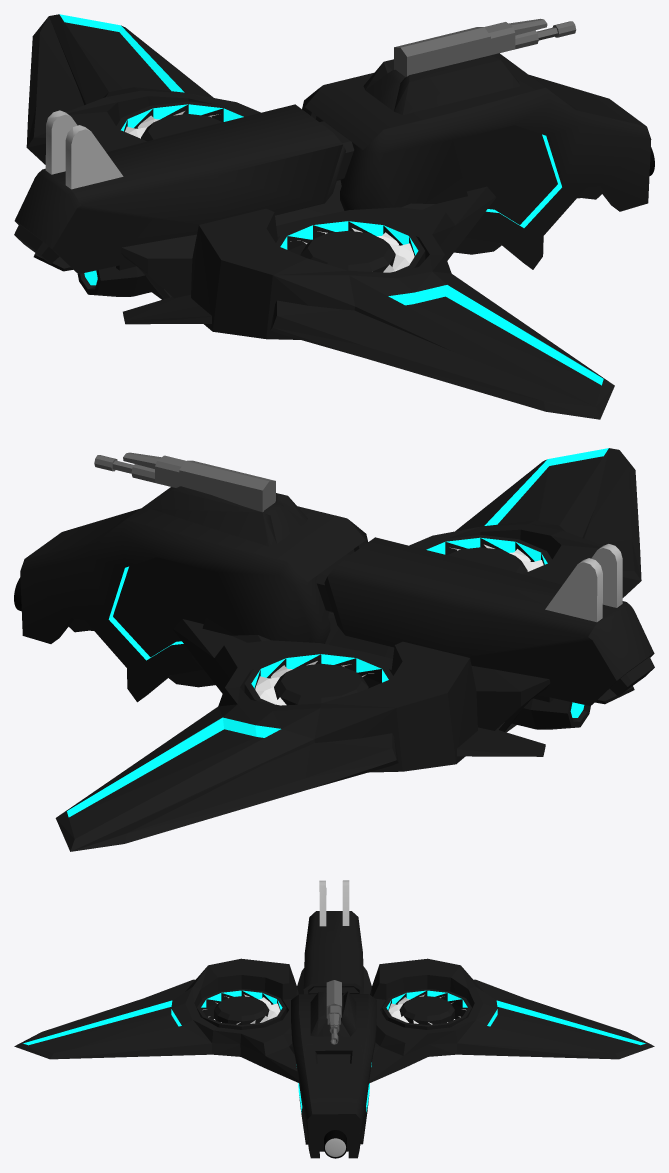
Rendered from AirDrone.gltf.
3 renders of one model, top to bottom at view 1: azimuth 30°, elevation 25°; view 2: azimuth 150°, elevation 25°; view 3: azimuth 270°, elevation 25°, orthographic. The views are drawn at different scales.
Parts seen in each view (by area): view 1: Mesh_0814.001, Drone, Drone.001, Mesh_0822.001, propller 1; view 2: Drone, Mesh_0814.001, Drone.001, Mesh_0822.001, Propllier 2; view 3: Drone, Mesh_0814.001, Drone.001, Mesh_0822.001.
Part boxes in pixels (x1=…): Mesh_0814.001: x1=14, y1=53, x2=651, y2=299; Drone: x1=26, y1=14, x2=614, y2=419; Drone.001: x1=394, y1=18, x2=576, y2=76; Mesh_0822.001: x1=45, y1=110, x2=123, y2=189; propller 1: x1=290, y1=228, x2=414, y2=272; Drone: x1=55, y1=448, x2=641, y2=851; Mesh_0814.001: x1=20, y1=486, x2=654, y2=732; Drone.001: x1=94, y1=452, x2=275, y2=511; Mesh_0822.001: x1=545, y1=544, x2=622, y2=622; Propllier 2: x1=255, y1=661, x2=373, y2=705; Drone: x1=14, y1=958, x2=654, y2=1083; Mesh_0814.001: x1=291, y1=911, x2=376, y2=1158; Drone.001: x1=326, y1=980, x2=341, y2=1044; Mesh_0822.001: x1=319, y1=880, x2=349, y2=926.
Size of what is drawn, in the model's own units: 4.07 by 1.5 by 6.26.
